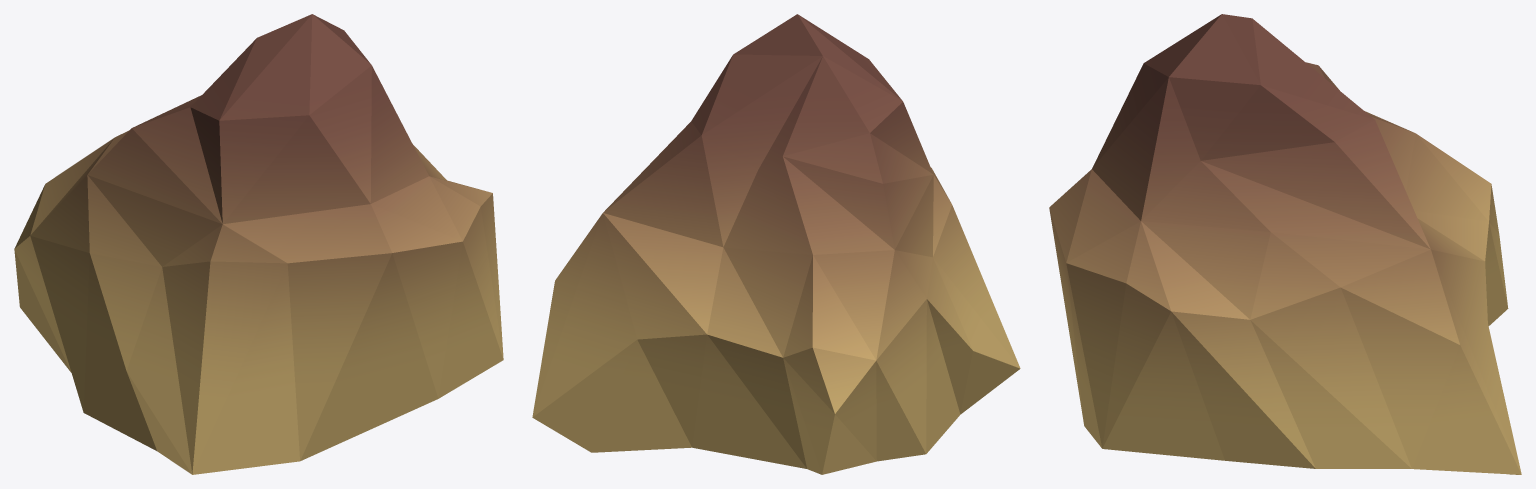
Rendered from Rock_Cliff.fbx.
3 views of the same model, side by side, from view 1: azimuth 30°, elevation 25°; view 2: azimuth 150°, elevation 25°; view 3: azimuth 270°, elevation 25° (orthographic). The views are drawn at different scales.
Parts seen in each view (by area): view 1: Rock_Cliff; view 2: Rock_Cliff; view 3: Rock_Cliff.
Boxes of the visible parts, x1,y1,x2,y2 form: Rock_Cliff: (14,14,503,474); Rock_Cliff: (532,14,1020,474); Rock_Cliff: (1049,14,1521,474).
Size of the model in its own units: 158 by 167 by 171.
